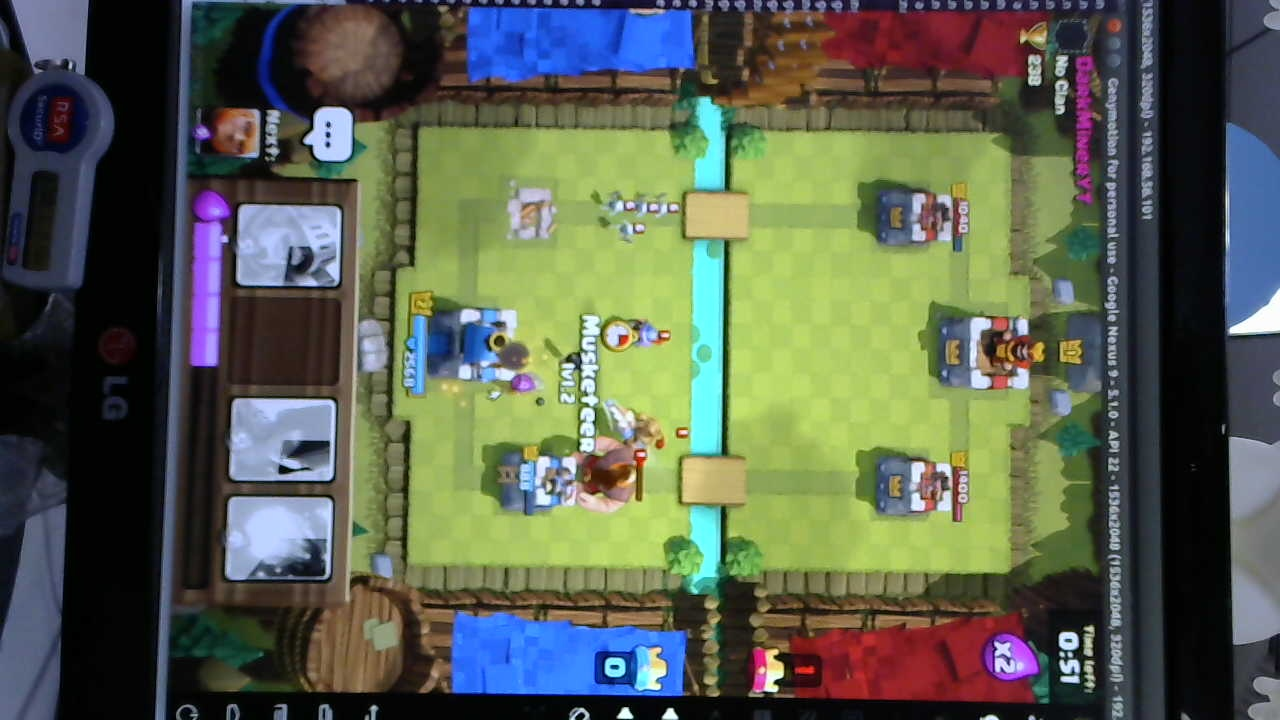arena: (498, 452, 578, 517)
darena: (504, 180, 557, 248)
earena: (875, 454, 955, 522), (874, 186, 956, 249)
eking: (940, 316, 1039, 391)
giant: (569, 437, 639, 510)
king: (436, 308, 518, 391)
musketeer: (622, 311, 671, 353)
prince: (606, 398, 667, 455)
skeleton: (605, 194, 684, 243)
